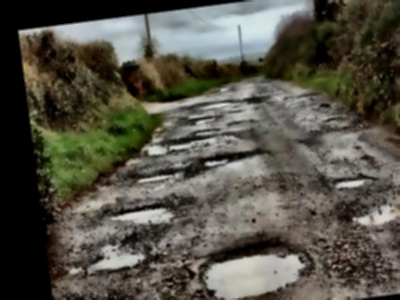pothole: (195, 234, 317, 300), (83, 240, 150, 273), (345, 195, 400, 228), (194, 146, 267, 169), (106, 202, 168, 222), (331, 171, 377, 189), (186, 113, 219, 125), (141, 142, 167, 156)
